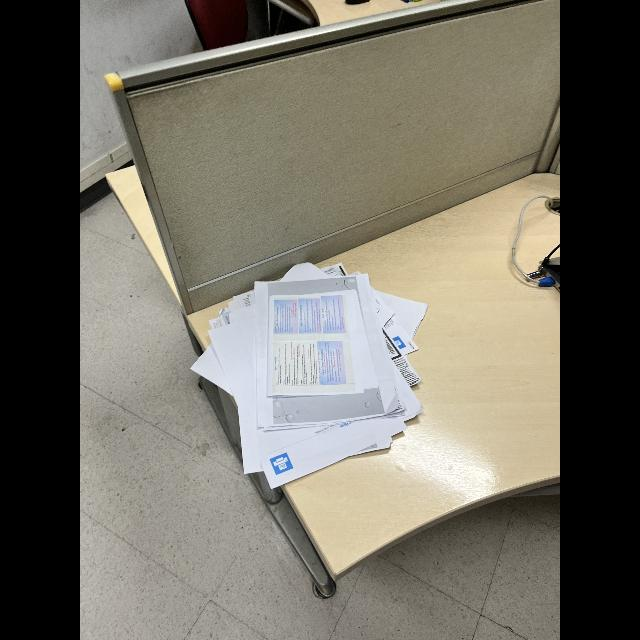reuseable_paper: (186, 250, 440, 488)
